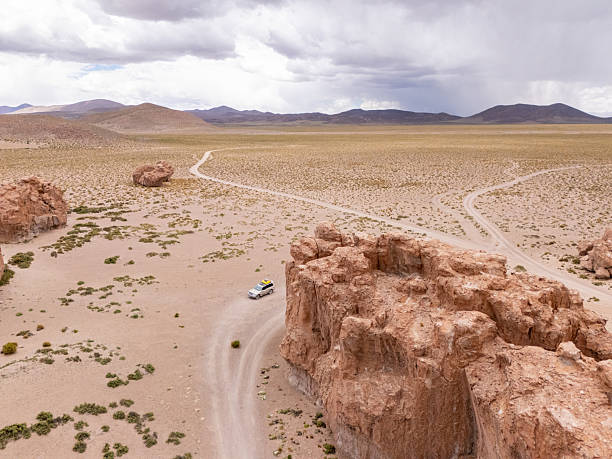vehicle_track: (190, 148, 611, 306), (189, 149, 480, 248), (463, 165, 611, 302)
